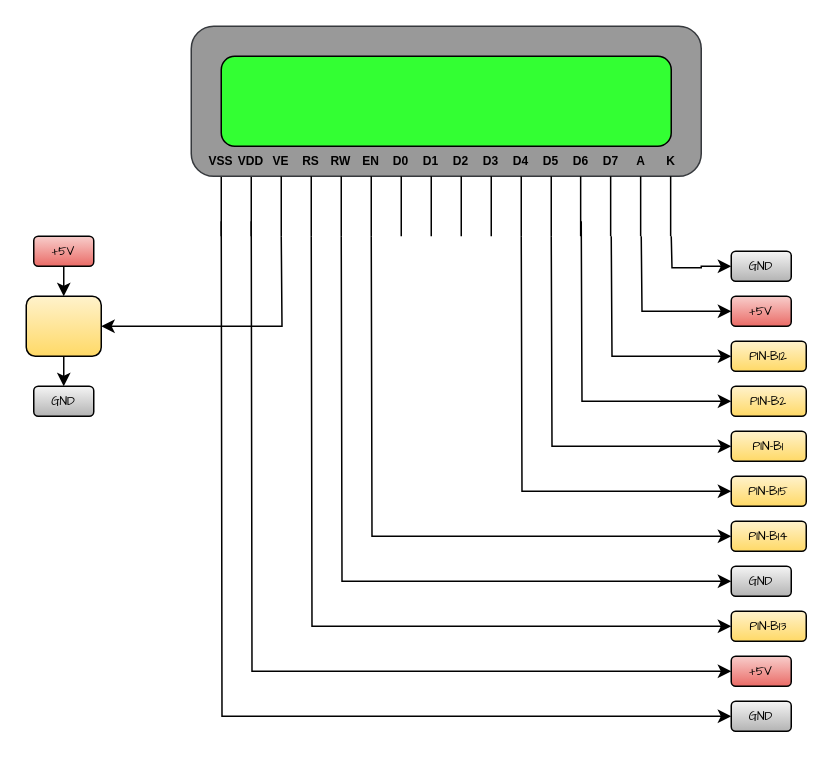
Some shapes in this 833 by 758 pixel diagram are drawn without their labels. Here are the shapes that lost their labels. From the top down, the centre of each, then its label:
At point 445,100: "16x2 LCD".
At point 63,325: "POT".
